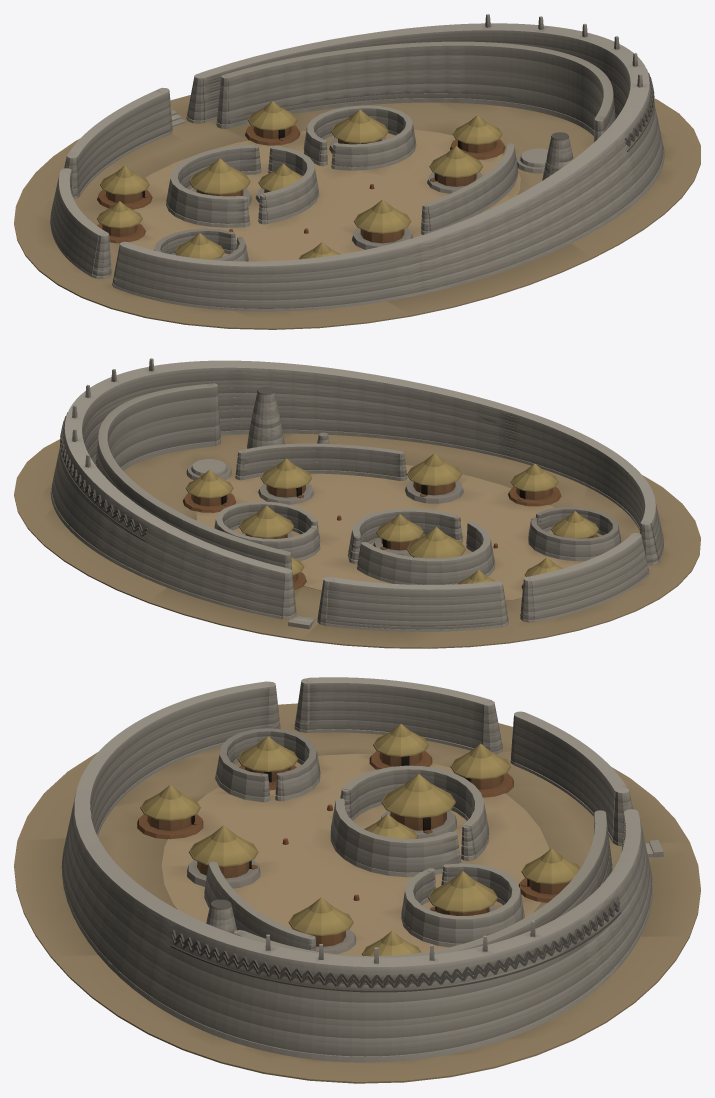
File: great-enclosure.glb
3 views of the same model, one above another, from view 1: azimuth 30°, elevation 25°; view 2: azimuth 150°, elevation 25°; view 3: azimuth 270°, elevation 25° (orthographic). The views are drawn at different scales.
Parts seen in each view (by area): view 1: p1_outer-wall, p0_ground, p2_inner-walls, p3_houses; view 2: p1_outer-wall, p0_ground, p2_inner-walls, p3_houses; view 3: p1_outer-wall, p0_ground, p2_inner-walls, p3_houses.
Part boxes in pixels (x1,y1,x2,y2): p1_outer-wall: [50, 14, 664, 311]; p0_ground: [14, 95, 700, 329]; p2_inner-walls: [154, 41, 615, 261]; p3_houses: [96, 101, 505, 259]; p1_outer-wall: [50, 358, 663, 631]; p0_ground: [14, 433, 700, 648]; p2_inner-walls: [95, 383, 621, 584]; p3_houses: [183, 453, 598, 590]; p1_outer-wall: [61, 677, 663, 1062]; p0_ground: [14, 703, 700, 1083]; p2_inner-walls: [204, 728, 612, 957]; p3_houses: [137, 724, 580, 956].
Bounding box in the file's own units: 101 × 13 × 77.49.
